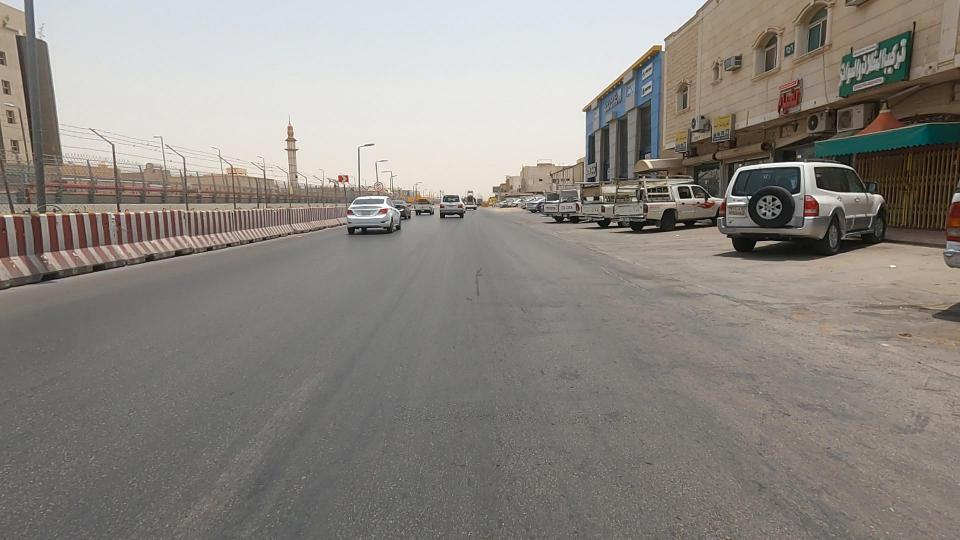CONSTRUCTION_ROAD: (2, 135, 270, 304), (164, 141, 366, 275)
